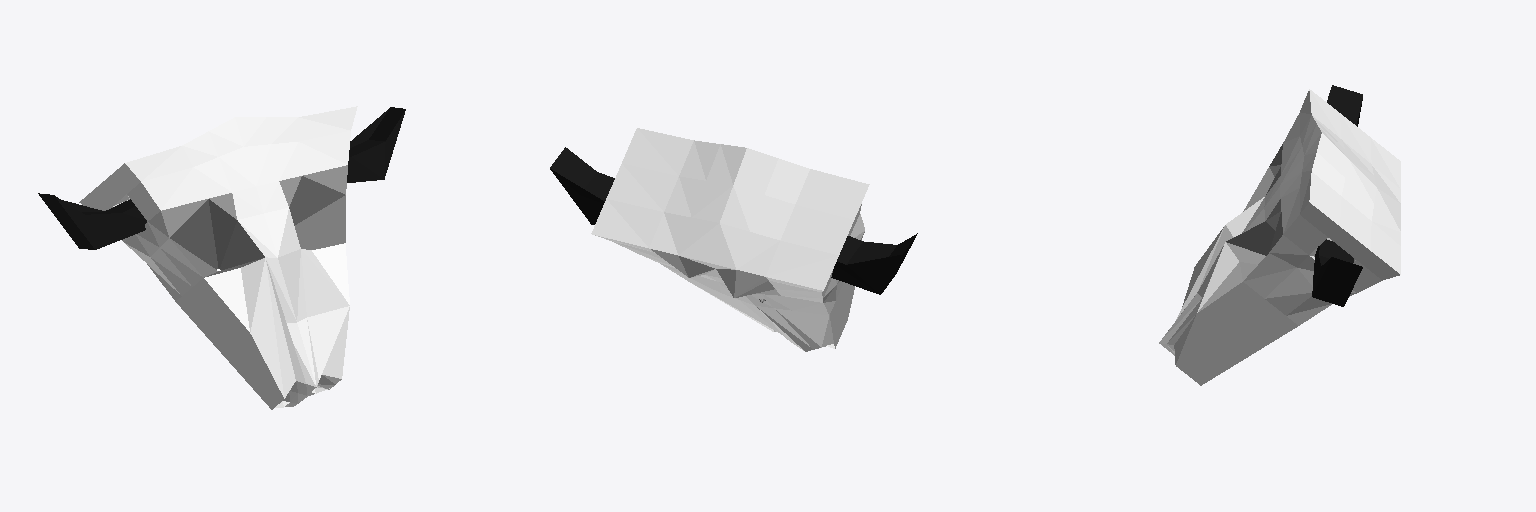
File: bison_skull.obj
3 renders of one model, left to right at view 1: azimuth 30°, elevation 25°; view 2: azimuth 150°, elevation 25°; view 3: azimuth 270°, elevation 25°, orthographic.
Parts seen in each view (by area): view 1: pCube3; view 2: pCube3; view 3: pCube3.
Boxes of the visible parts, <box> form: pCube3: <box>38,106,405,409</box>; pCube3: <box>550,128,917,351</box>; pCube3: <box>1159,85,1400,385</box>.
Size of the model in its own units: 4.37 by 2.92 by 2.6.